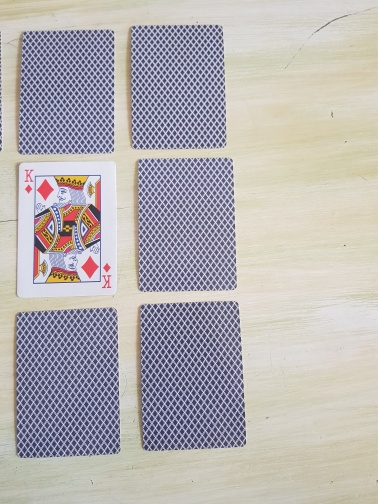king: (16, 160, 118, 299)
